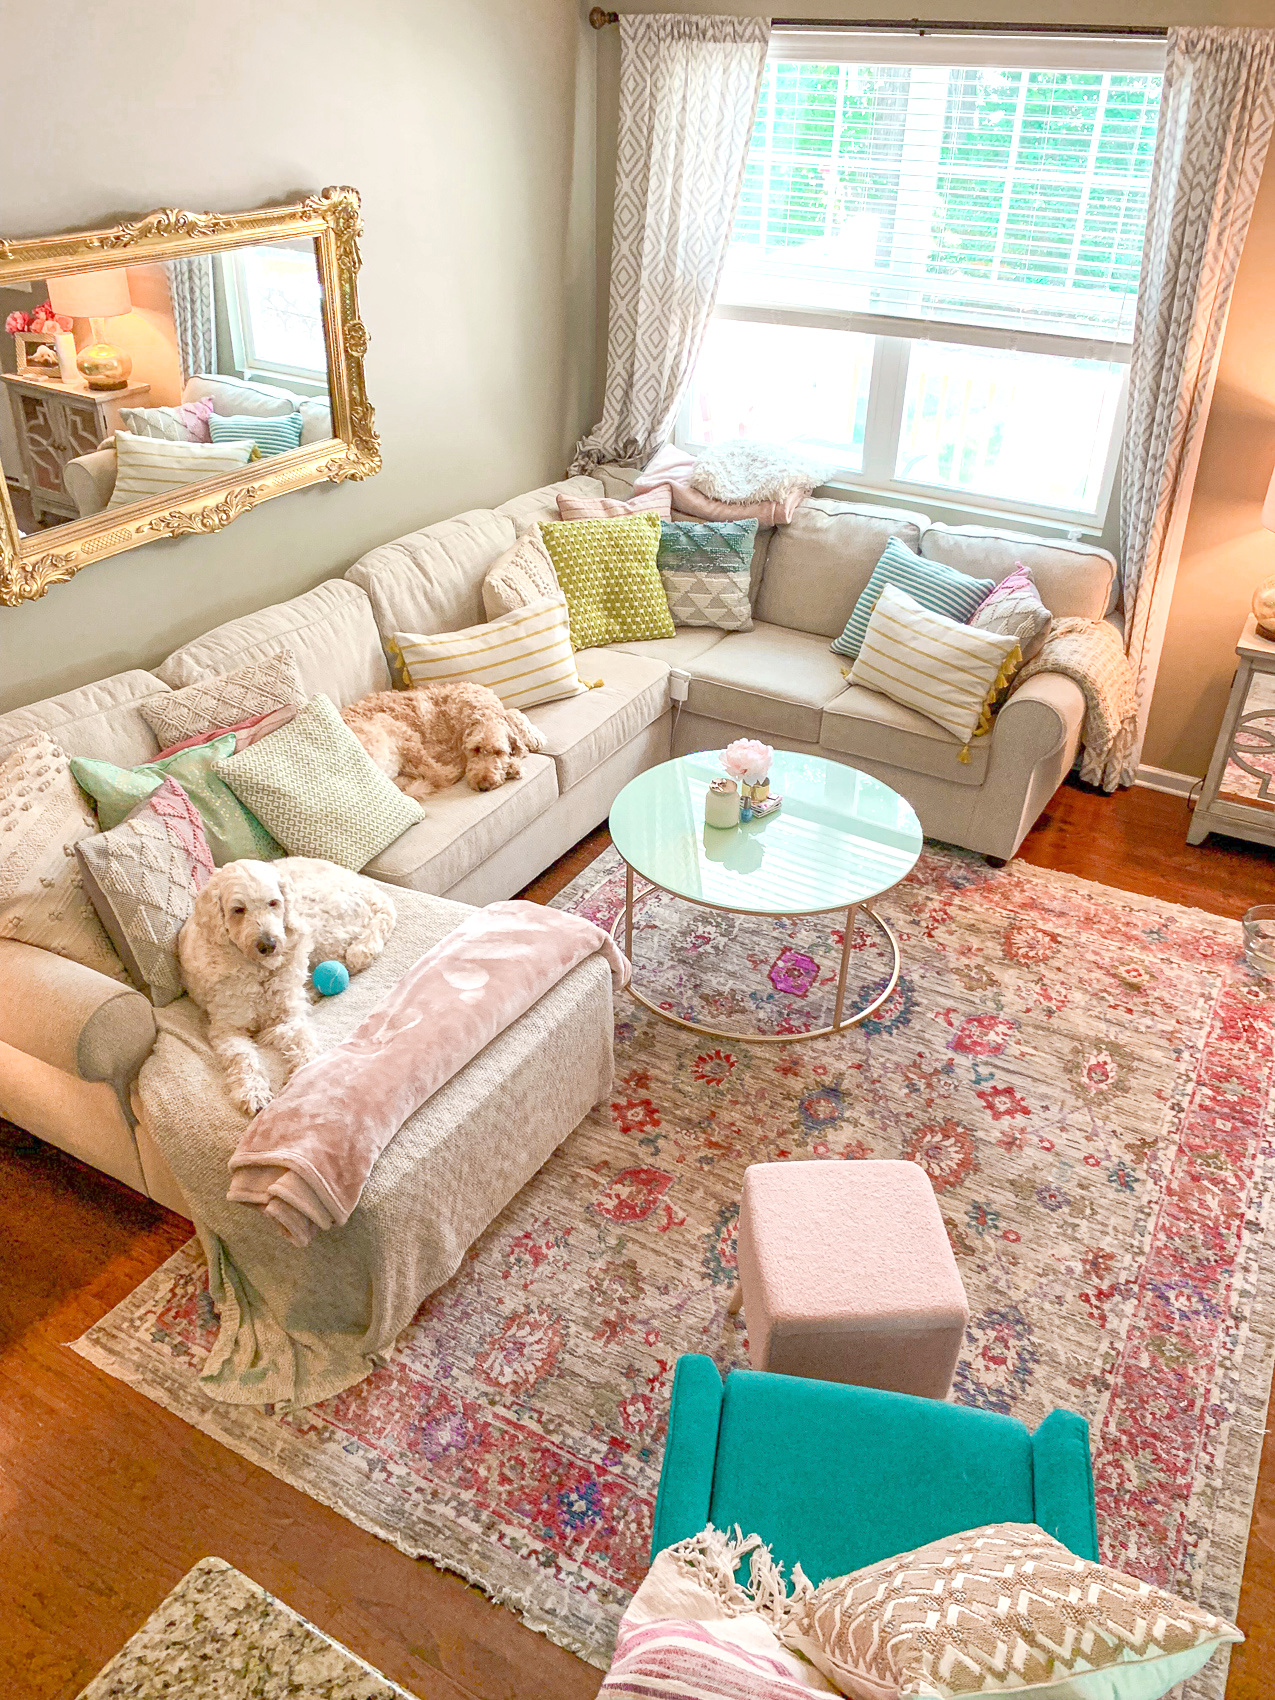hijau: (687, 1347, 1092, 1549)
pink: (738, 1167, 966, 1385)
putih: (250, 606, 599, 850)
